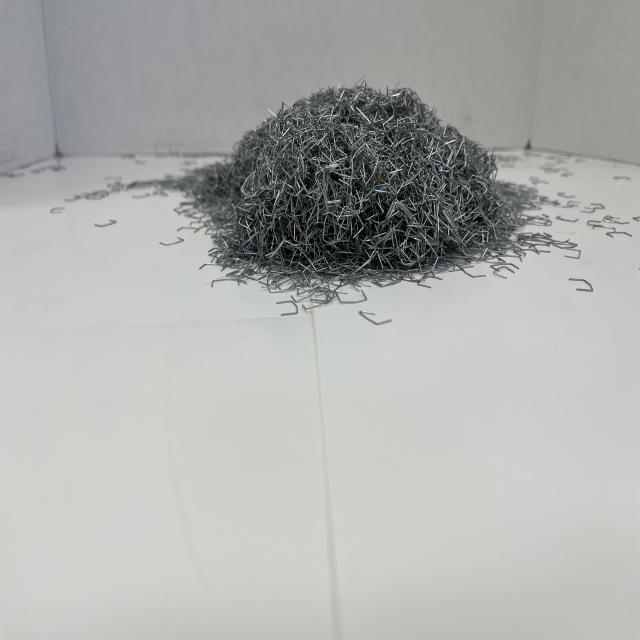staples: (203, 78, 520, 279)
